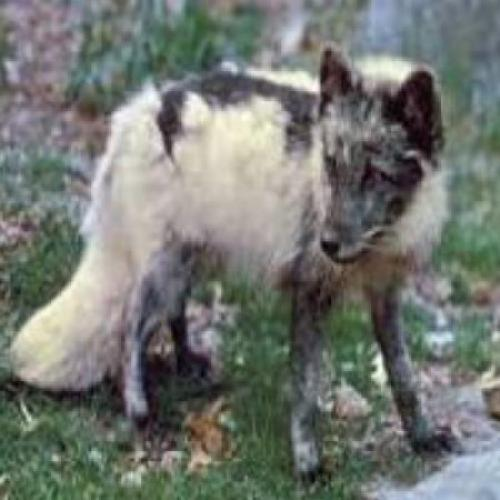arctic_fox-endangered: (11, 44, 455, 478)
